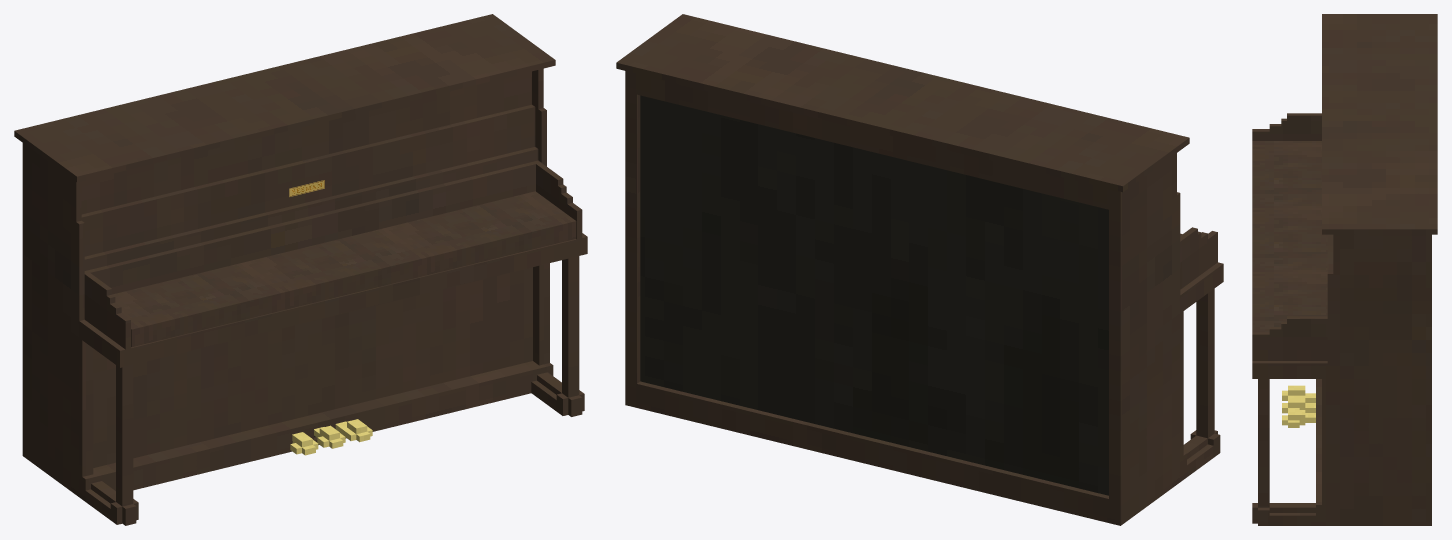
The model's file is Piano.fbx.
3 views of the same model, side by side, from view 1: azimuth 30°, elevation 25°; view 2: azimuth 150°, elevation 25°; view 3: azimuth 270°, elevation 25° (orthographic). The views are drawn at different scales.
Parts seen in each view (by area): view 1: Piano, Cover; view 2: Piano; view 3: Piano, Cover, Pedal_Damper, Pedal_Soft, Pedal_Sostenuto.
Boxes of the visible parts, left/top/right/bottom form: Piano: left=14, top=14, right=587, bottom=525; Cover: left=112, top=191, right=576, bottom=347; Piano: left=616, top=14, right=1223, bottom=525; Piano: left=1252, top=14, right=1437, bottom=525; Cover: left=1252, top=141, right=1327, bottom=332; Pedal_Damper: left=1282, top=410, right=1315, bottom=427; Pedal_Soft: left=1282, top=385, right=1315, bottom=402; Pedal_Sostenuto: left=1282, top=397, right=1315, bottom=413.
Size of the model in its own units: 88 by 57 by 32.
Materials: 2 (2 with a texture image).
